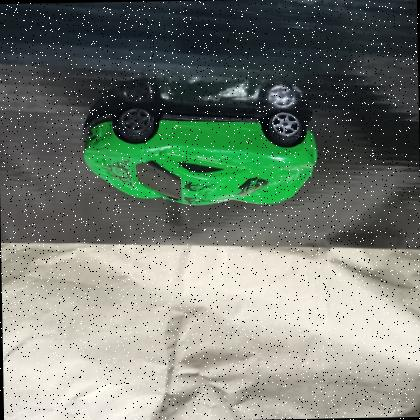Car: (82, 106, 318, 205)
